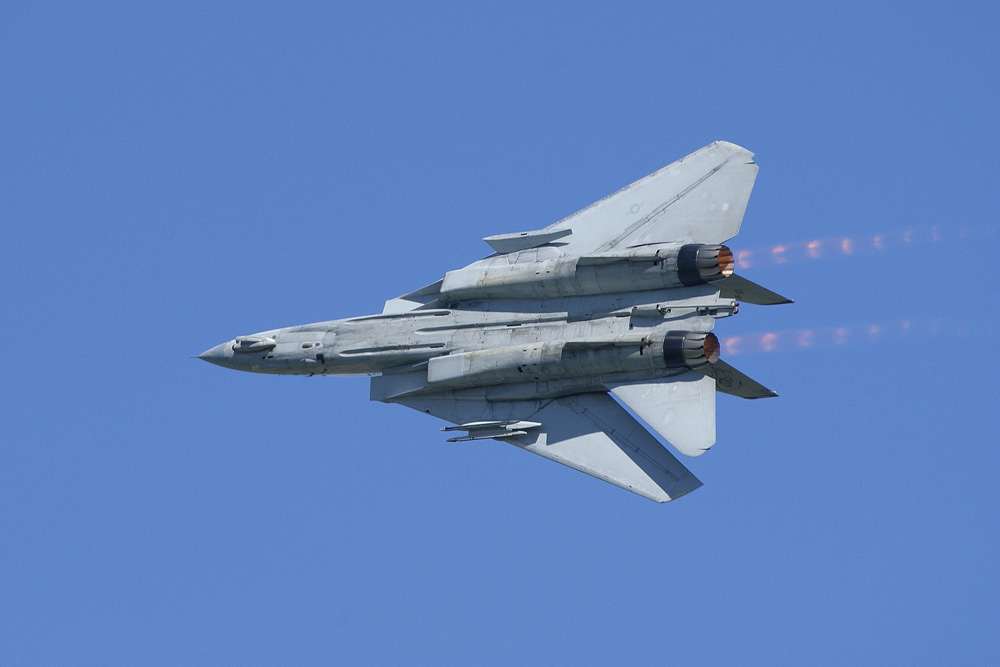F14: (189, 140, 795, 504)
